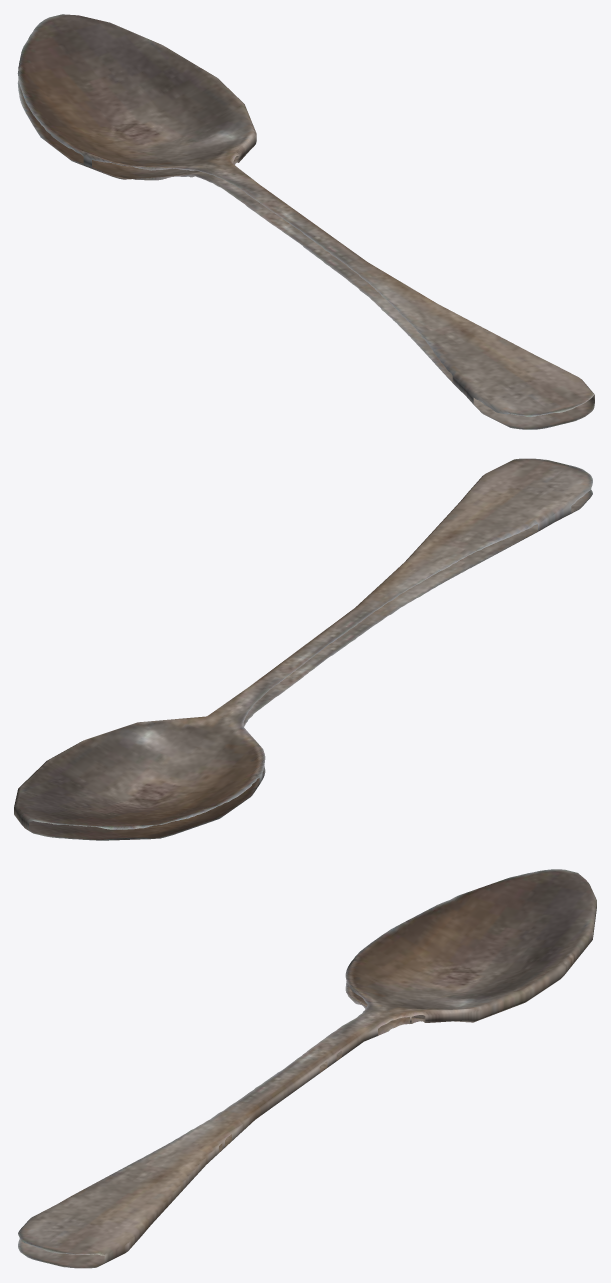
The model's file is spoon.fbx.
3 views of the same model, one above another, from view 1: azimuth 30°, elevation 25°; view 2: azimuth 150°, elevation 25°; view 3: azimuth 330°, elevation 25° (orthographic). The views are drawn at different scales.
Visible parts, largest first — view 1: spoon; view 2: spoon; view 3: spoon.
Part boxes in pixels (left/top/right/bottom): spoon: left=17, top=14, right=594, bottom=429; spoon: left=14, top=458, right=592, bottom=840; spoon: left=18, top=869, right=596, bottom=1268.
Size of the model in its own units: 4.45 by 1.29 by 22.33.
Materials: 1 (1 with a texture image).
